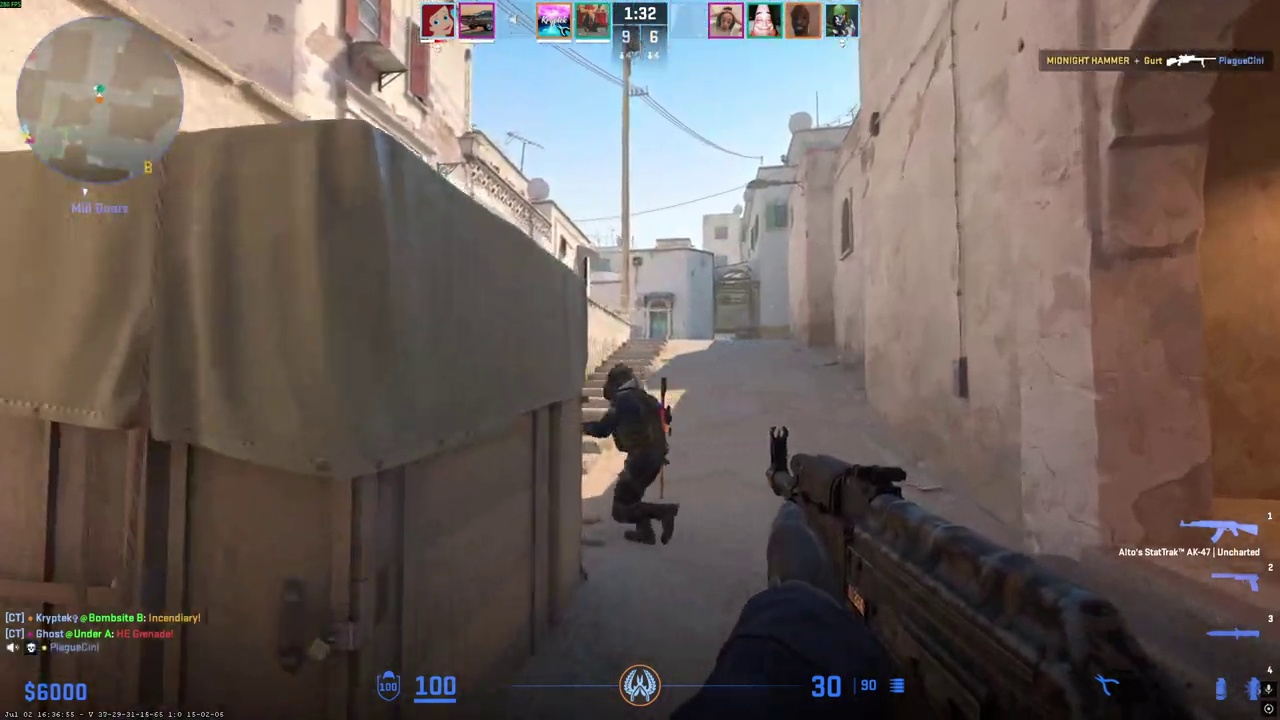CT: (599, 365, 673, 544)
